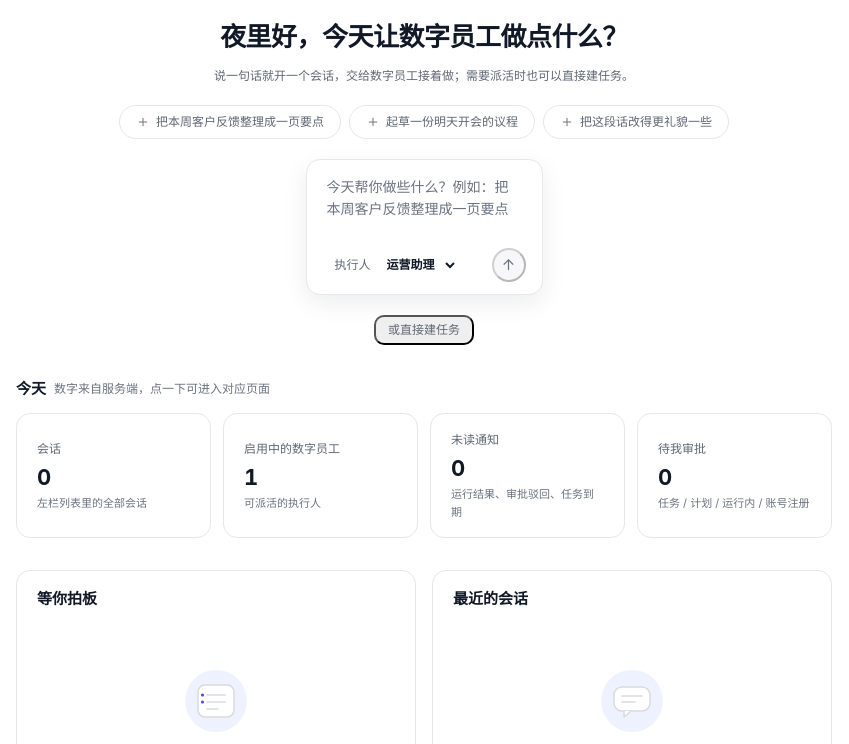
Scenario: HomePage › keeps task creation as a secondary entry and reports pending approval
This screenshot has width=849, height=744.
Expected: the heading "夜里好，今天让数字员工做点什么？" is shown, [220,16,628,58]
Click the button "或直接建任务" at (424, 330), box [374,315,474,345]
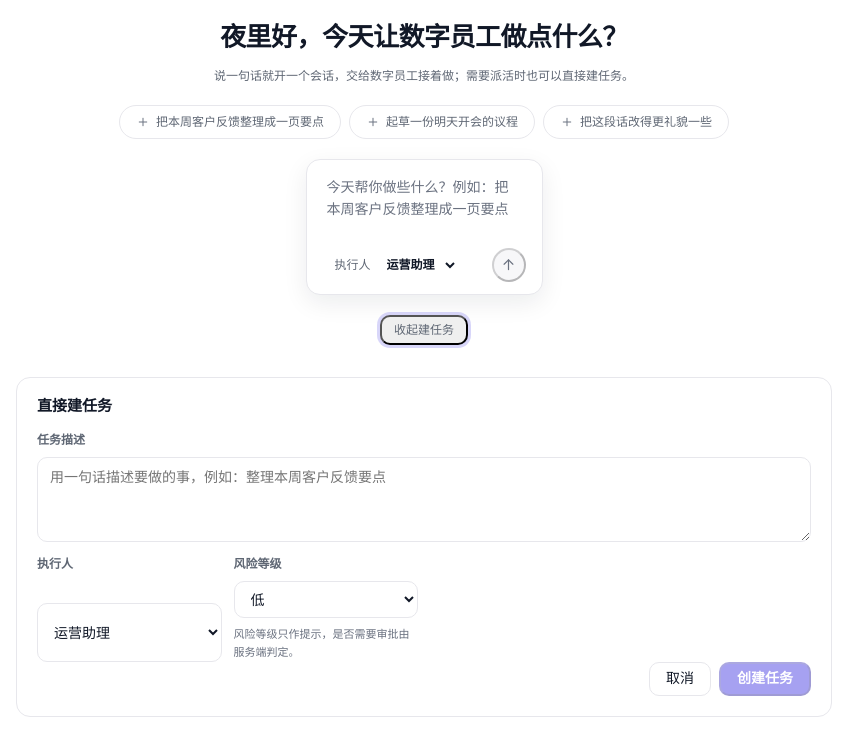
Type "接入新渠道" into the text box labelled "任务描述" at (424, 500), box [37,457,811,542]
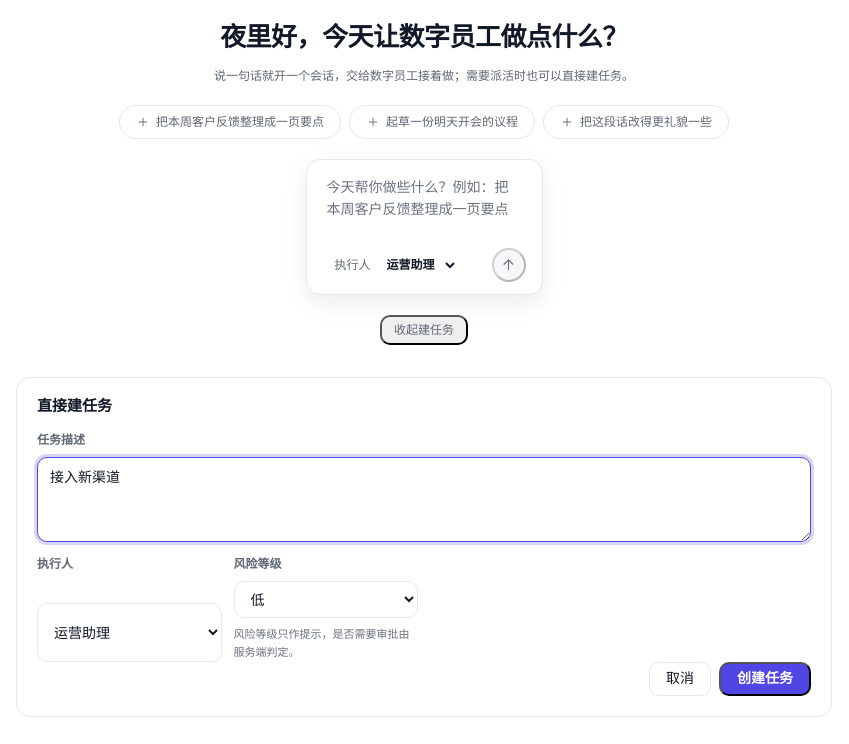
Select "高" in the dropdown labelled "风险等级" at (326, 600), box [234,581,418,618]
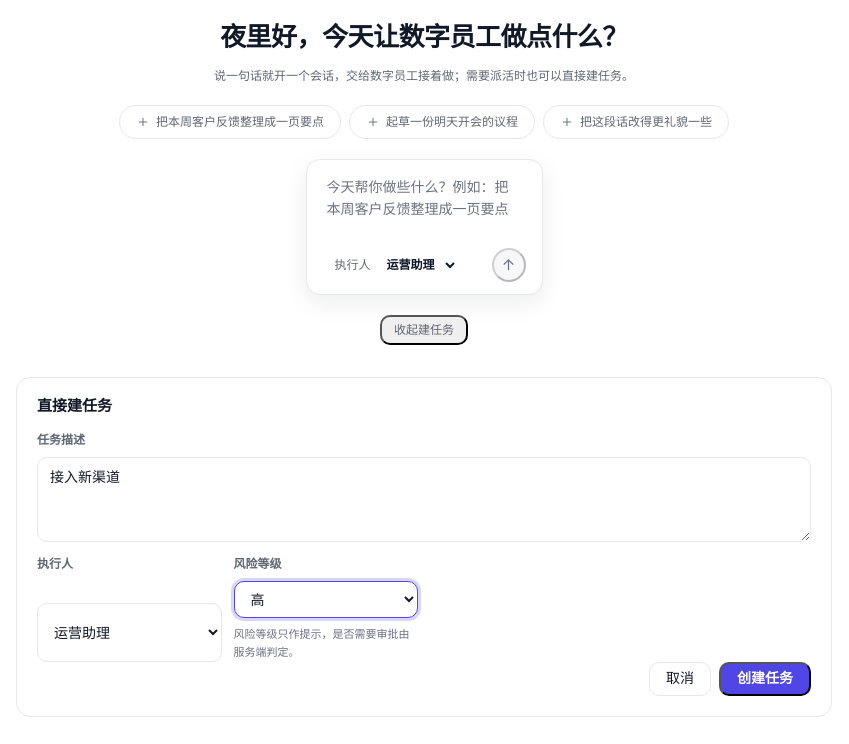
Click the button "创建任务" at (765, 678), box [719,662,811,696]
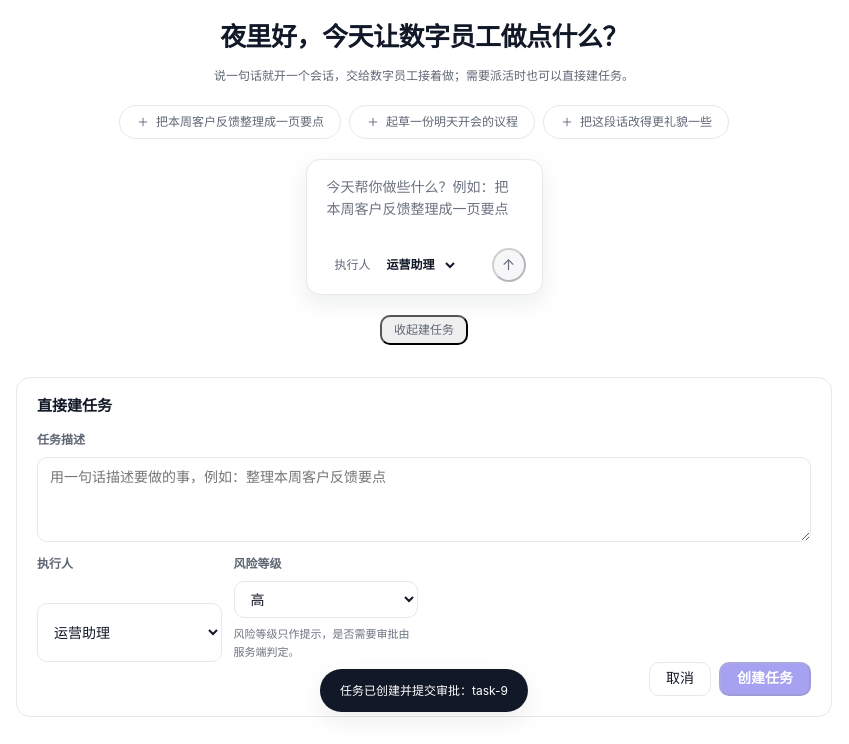
Now the text "任务已创建并提交审批：task-9" is shown, box [340,681,508,700]
